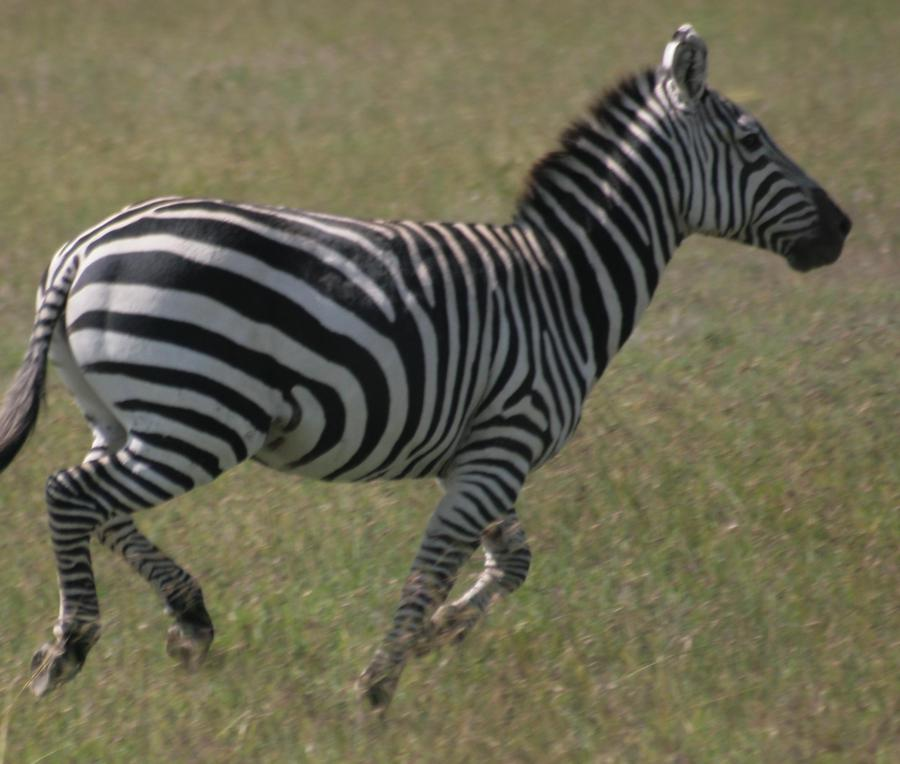zebra_plains: (109, 213, 598, 504)
